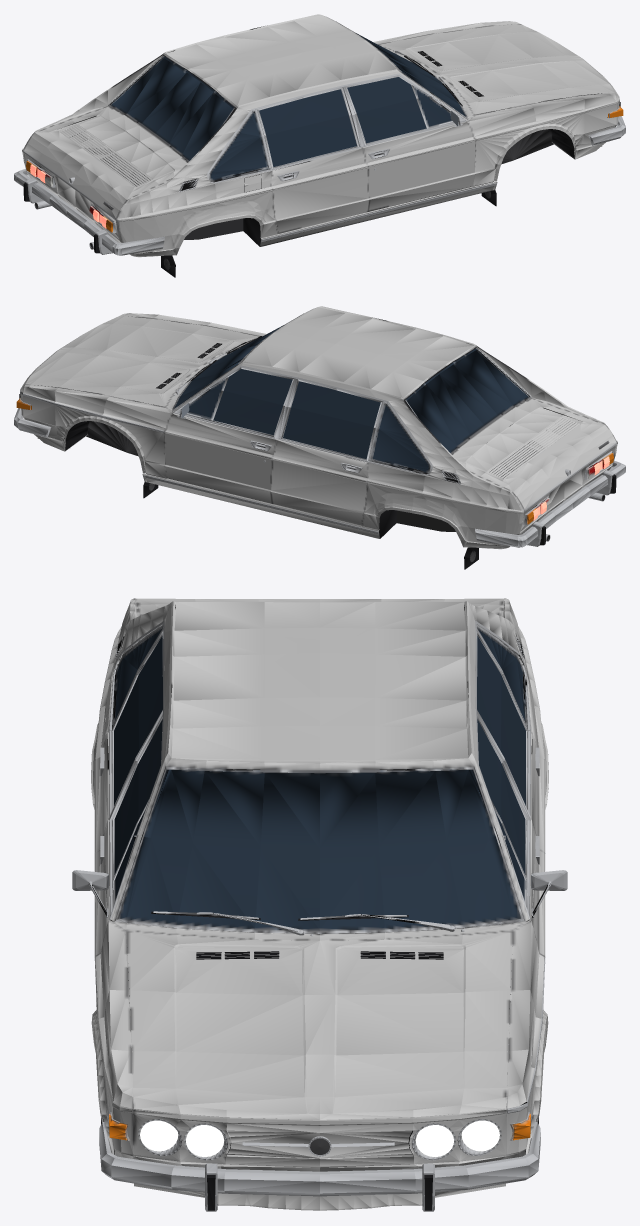
File: tatra613.glb
The picture shows the model from 3 angles, top to bottom: view 1: azimuth 30°, elevation 25°; view 2: azimuth 150°, elevation 25°; view 3: azimuth 270°, elevation 25°; orthographic projection. The views are drawn at different scales.
Visible parts, largest first — view 1: karoserie, viko_motoru; view 2: karoserie, viko_motoru; view 3: karoserie, noc, viko_motoru.
Boxes of the visible parts, box(x1,y1,x2,y2) form: karoserie: box(14, 14, 625, 277); viko_motoru: box(23, 106, 187, 219); karoserie: box(14, 306, 625, 569); viko_motoru: box(452, 398, 616, 511); karoserie: box(72, 598, 567, 1211); noc: box(140, 1120, 499, 1156); viko_motoru: box(136, 598, 503, 615).
Bounding box in the file's own units: 5.24 × 1.39 × 2.11.
Materials: 3 (1 with a texture image).
